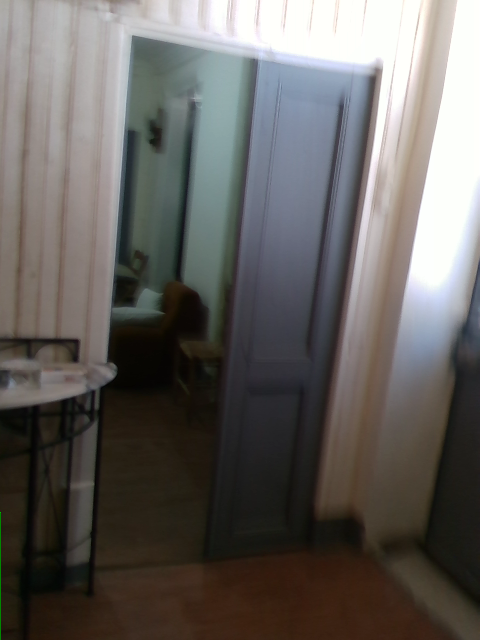open: (76, 20, 384, 571)
